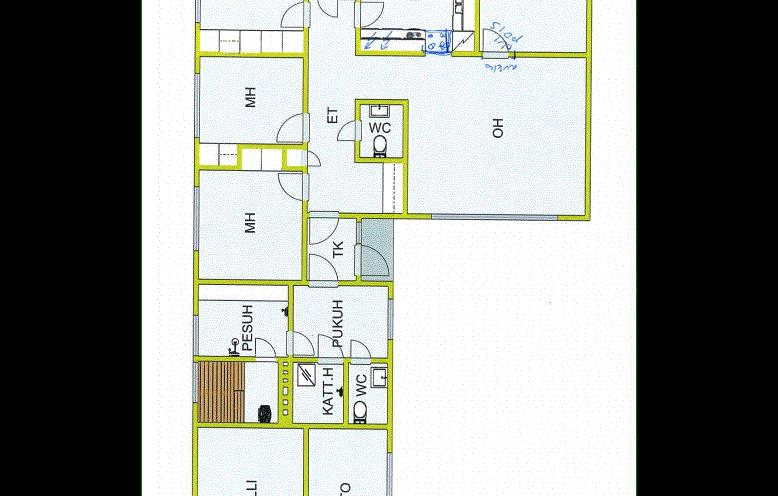bathroom: (345, 362, 388, 424), (361, 103, 405, 157)
door: (354, 242, 393, 276), (308, 250, 340, 290), (479, 24, 514, 58), (308, 208, 339, 245), (275, 113, 313, 143), (278, 170, 310, 203), (278, 0, 312, 28), (317, 332, 346, 364), (354, 0, 386, 28), (286, 330, 318, 355), (335, 117, 365, 142), (253, 336, 278, 363), (350, 336, 372, 366), (315, 0, 340, 17), (302, 148, 322, 168)
perimeter: (192, 0, 593, 496)
window: (426, 210, 563, 222), (192, 181, 202, 257), (192, 67, 202, 141), (384, 445, 395, 496), (383, 296, 395, 342), (189, 358, 201, 404), (192, 309, 200, 358), (193, 0, 204, 28), (354, 218, 363, 248)
